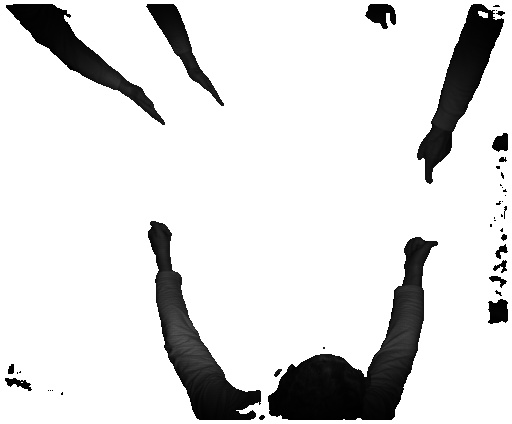fist: (400, 232, 439, 264), (144, 216, 175, 252)
hand: (416, 133, 455, 183)
spine: (124, 85, 167, 127), (188, 61, 223, 111)
